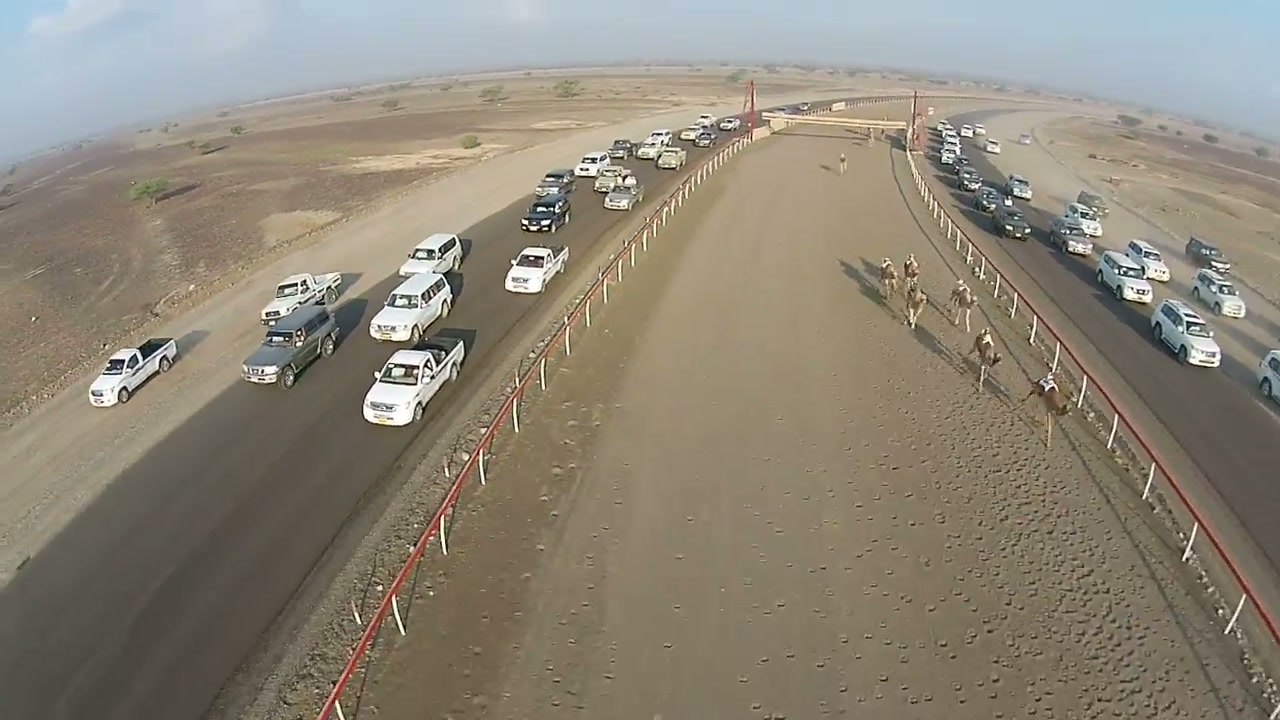animal_footprint: (833, 360, 1208, 719)
